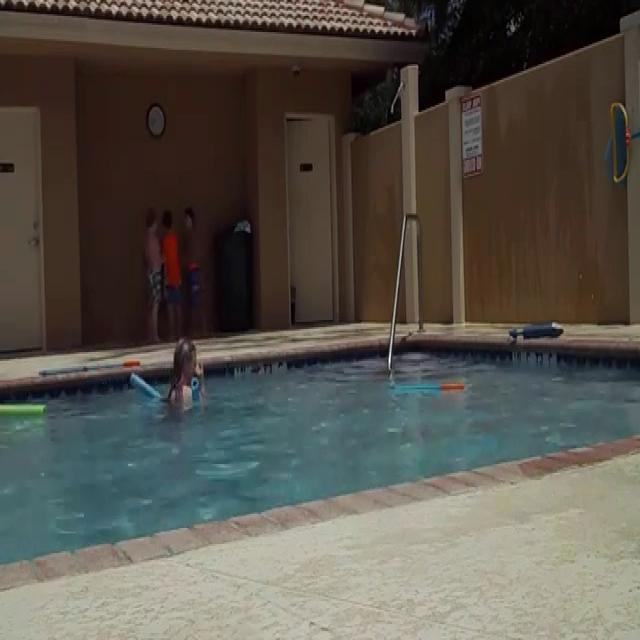adult: (165, 334, 211, 418)
child: (179, 210, 205, 334), (142, 209, 164, 343), (163, 209, 181, 338)
